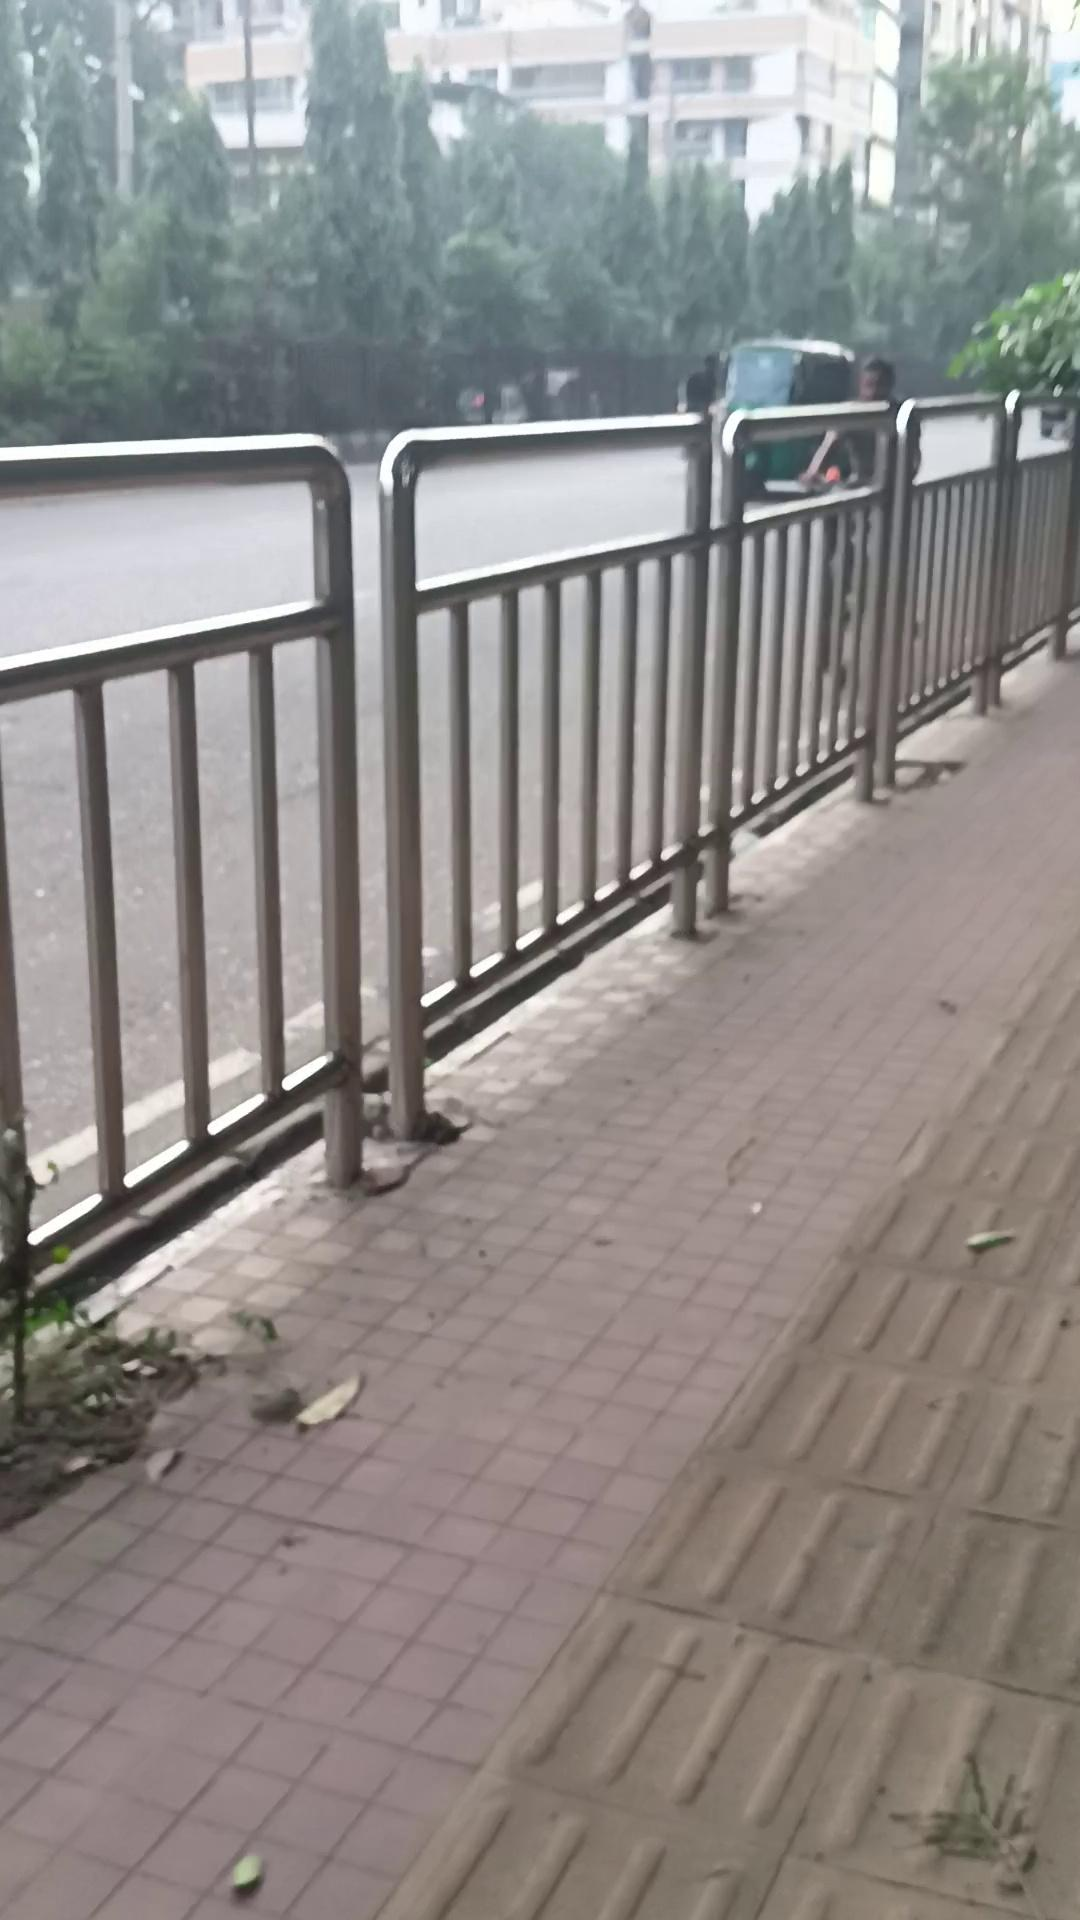Muddy road: (798, 356, 922, 690)
Potted-plant: (3, 617, 1077, 1917)
Traffic-sign: (676, 336, 862, 497)
